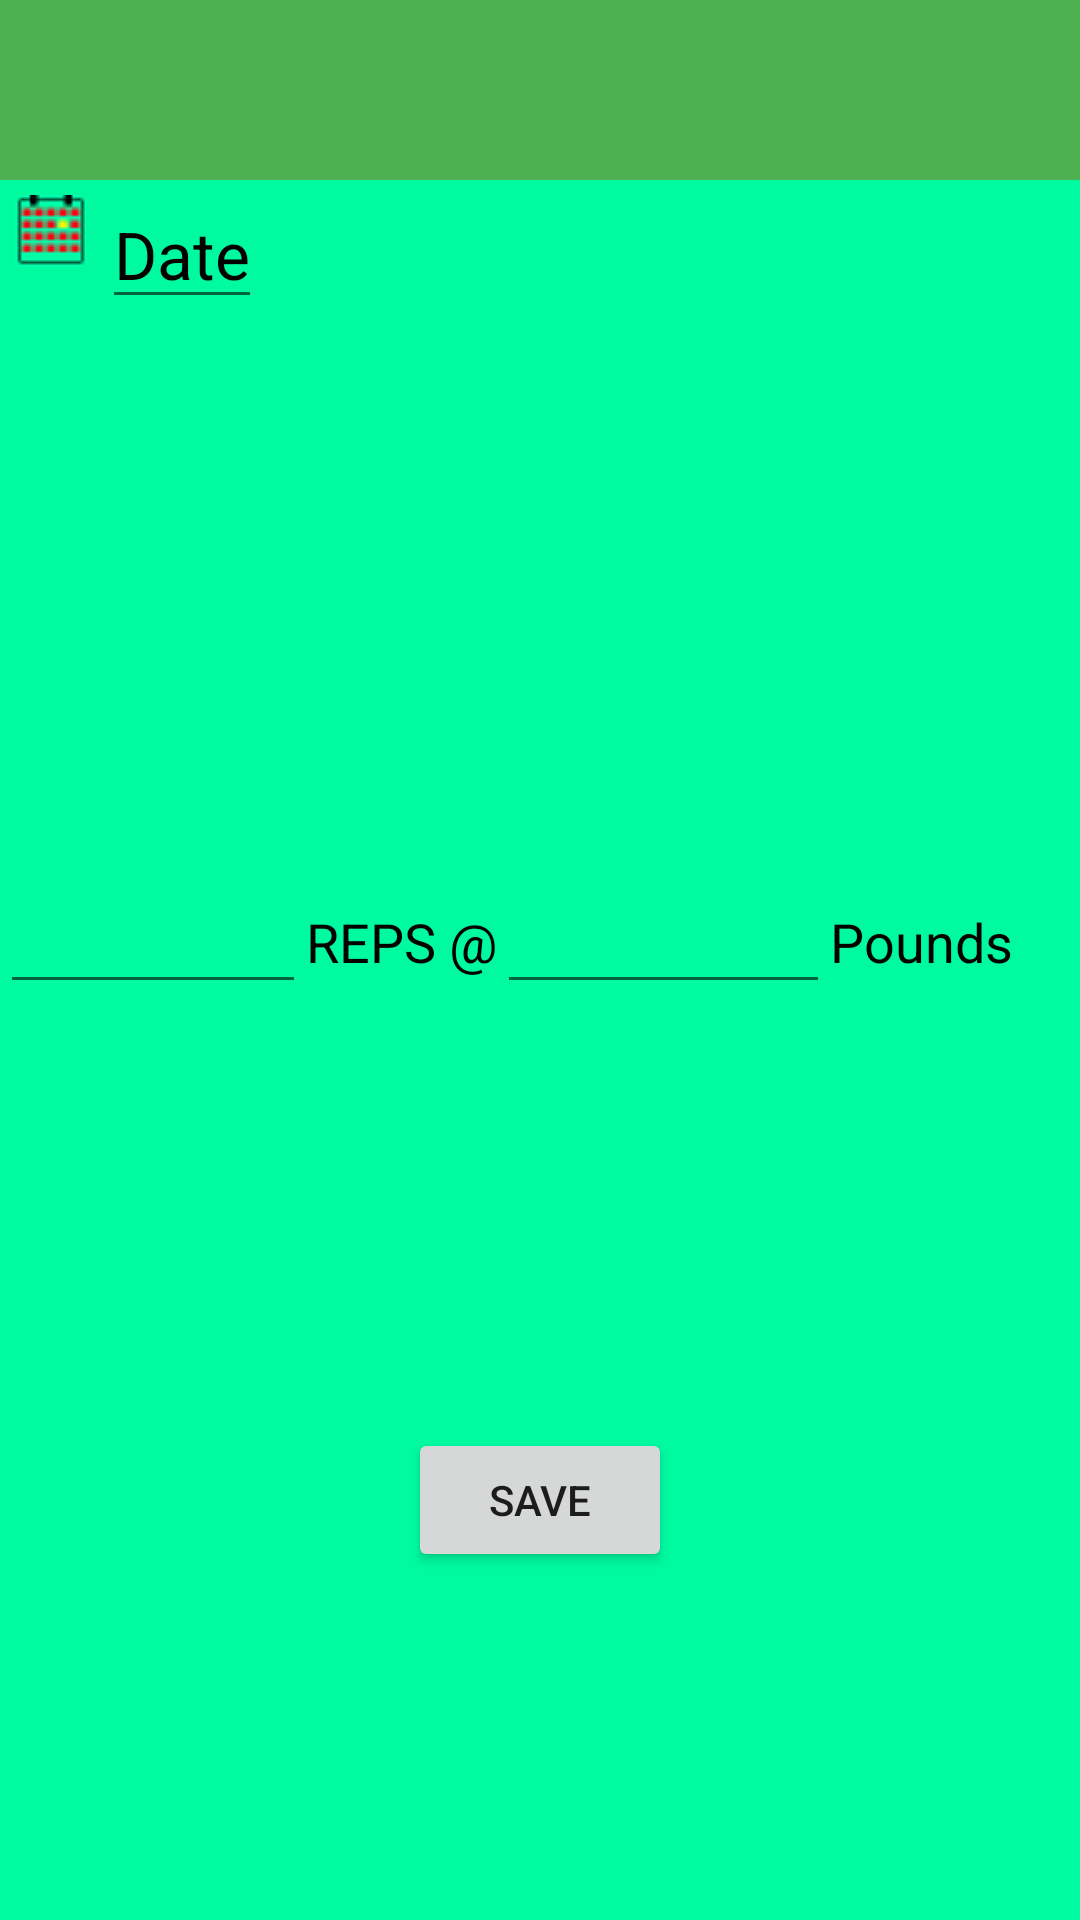

Screen size 1080 x 1920. Icon name, then its box in pixels as bbox(x1, y1, x2, y2):
calendar: bbox(17, 195, 85, 265)
